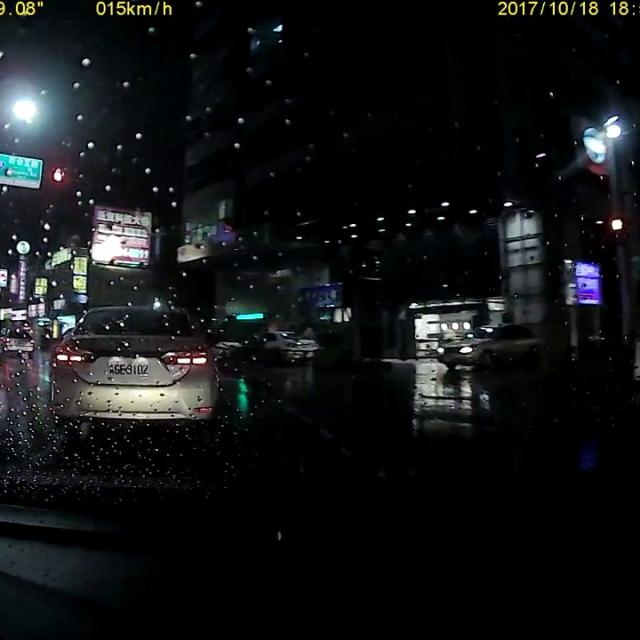Car: (45, 302, 221, 429), (433, 318, 549, 373), (251, 328, 319, 365), (1, 327, 34, 356)
